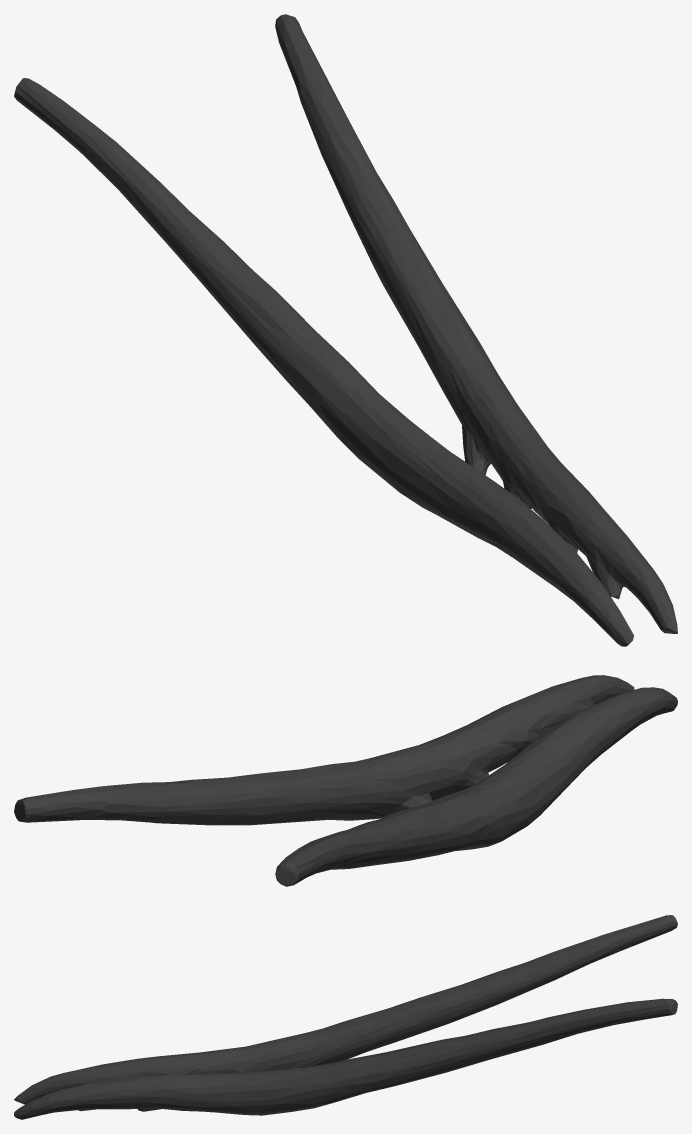
Rendered from m_psoas_minor.glb.
3 views of the same model, one above another, from view 1: azimuth 30°, elevation 25°; view 2: azimuth 150°, elevation 25°; view 3: azimuth 270°, elevation 25° (orthographic). The views are drawn at different scales.
Visible parts, largest first — view 1: m_psoas_minor; view 2: m_psoas_minor; view 3: m_psoas_minor.
Part boxes in pixels (x1,y1,x2,y2): m_psoas_minor: [14, 14, 677, 646]; m_psoas_minor: [14, 675, 677, 886]; m_psoas_minor: [14, 915, 677, 1119].
Bounding box in the file's own units: 0.00208 × 0.00163 × 0.00638.
Materials: 1 (1 with a texture image).
